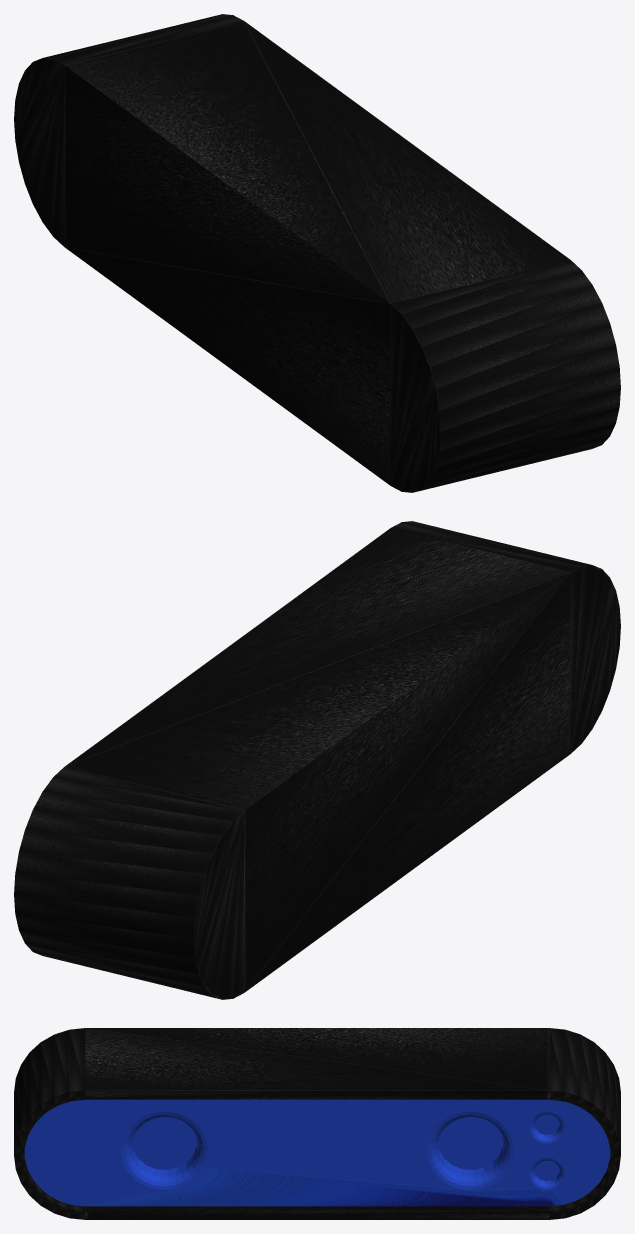
File: camera_structure.dae
The picture shows the model from 3 angles, top to bottom: view 1: azimuth 30°, elevation 25°; view 2: azimuth 150°, elevation 25°; view 3: azimuth 270°, elevation 25°; orthographic projection. The views are drawn at different scales.
Visible parts, largest first — view 1: Structure_Camera_-_face_structure-1-1_002; view 2: Structure_Camera_-_face_structure-1-1_002; view 3: Structure_Camera_-_face_structure-1-1, Structure_Camera_-_face_structure-1-1_002.
Boxes of the visible parts, x1=… form: Structure_Camera_-_face_structure-1-1_002: x1=14, y1=14, x2=620, y2=492; Structure_Camera_-_face_structure-1-1_002: x1=14, y1=521, x2=620, y2=999; Structure_Camera_-_face_structure-1-1: x1=24, y1=1099, x2=610, y2=1206; Structure_Camera_-_face_structure-1-1_002: x1=14, y1=1028, x2=620, y2=1219.
Bounding box in the file's own units: 0.029 × 0.119 × 0.028.
Materials: 2 (2 with a texture image).
